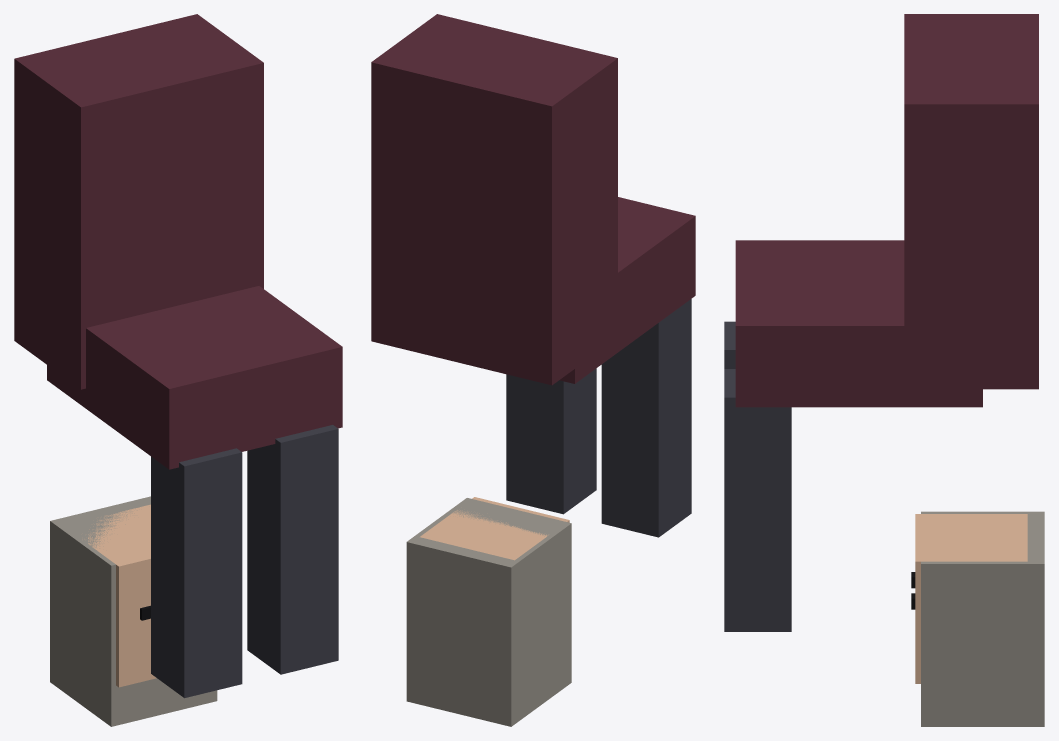
Rendered from character_coat.fbx.
3 renders of one model, left to right at view 1: azimuth 30°, elevation 25°; view 2: azimuth 150°, elevation 25°; view 3: azimuth 270°, elevation 25°, orthographic. The views are drawn at different scales.
Visible parts, largest first — view 1: Torso, Mesh_1, Mesh_2, Mesh_3, Mesh_5, Mesh_4; view 2: Torso, Mesh_5, Mesh_2, Mesh_3, Mesh_1, Mesh_4; view 3: Torso, Mesh_1, Mesh_5, Mesh_3, Mesh_4, Mesh_2.
Boxes of the visible parts, left/top/right/bottom form: Torso: left=14, top=14, right=263, bottom=389; Mesh_1: left=47, top=286, right=342, bottom=469; Mesh_2: left=151, top=448, right=242, bottom=698; Mesh_3: left=247, top=425, right=338, bottom=674; Mesh_5: left=50, top=496, right=217, bottom=726; Mesh_4: left=82, top=504, right=156, bottom=687; Torso: left=371, top=14, right=617, bottom=385; Mesh_5: left=406, top=498, right=571, bottom=726; Mesh_2: left=601, top=299, right=691, bottom=537; Mesh_3: left=506, top=368, right=596, bottom=514; Mesh_1: left=559, top=197, right=695, bottom=383; Mesh_4: left=420, top=497, right=569, bottom=560; Torso: left=904, top=14, right=1038, bottom=389; Mesh_1: left=735, top=240, right=982, bottom=407; Mesh_5: left=921, top=511, right=1044, bottom=726; Mesh_3: left=724, top=369, right=791, bottom=631; Mesh_4: left=915, top=514, right=1027, bottom=683; Mesh_2: left=724, top=321, right=735, bottom=368.
Bounding box in the file's own units: 0.38 × 1.26 × 0.57.
